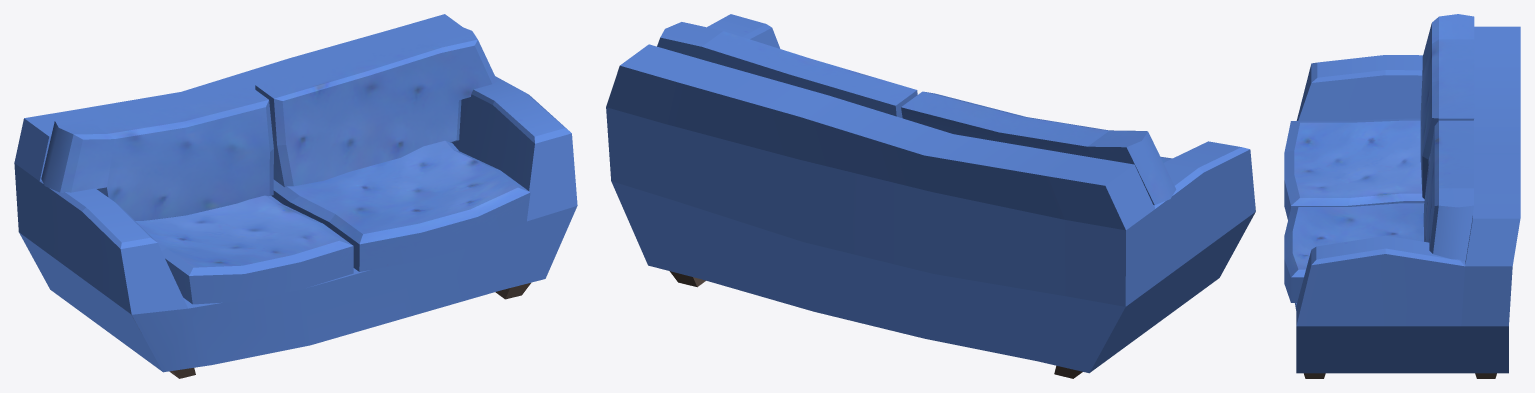
The model's file is couch.fbx.
3 views of the same model, side by side, from view 1: azimuth 30°, elevation 25°; view 2: azimuth 150°, elevation 25°; view 3: azimuth 270°, elevation 25° (orthographic). The views are drawn at different scales.
Visible parts, largest first — view 1: couch; view 2: couch; view 3: couch.
Part boxes in pixels (bbox=[...]): couch: bbox=[14, 14, 577, 378]; couch: bbox=[606, 14, 1255, 378]; couch: bbox=[1284, 14, 1520, 378].
Size of the model in its own units: 345 by 146 by 165.
